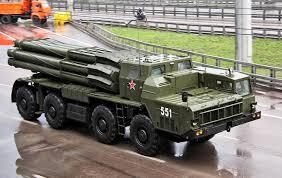MIL_SAM_TEL: (6, 37, 259, 155)
